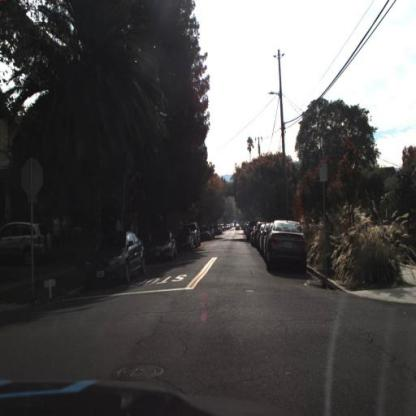car: (83, 231, 146, 287), (1, 217, 52, 262), (265, 219, 309, 270), (145, 229, 178, 263), (187, 219, 201, 248), (177, 225, 193, 250)
